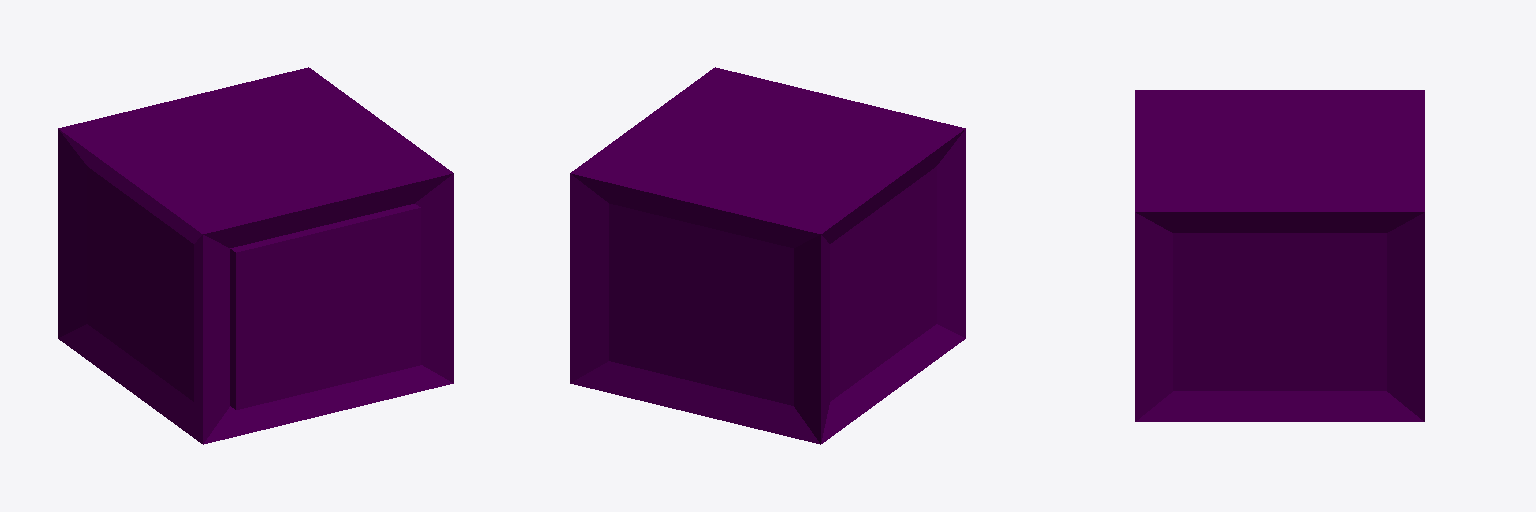
Rendered from AltitudeSensor.obj.
3 renders of one model, left to right at view 1: azimuth 30°, elevation 25°; view 2: azimuth 150°, elevation 25°; view 3: azimuth 270°, elevation 25°, orthographic.
Visible parts, largest first — view 1: Handle1; view 2: Handle1; view 3: Handle1.
Boxes of the visible parts, x1,y1,x2,y2 form: Handle1: [58, 67, 453, 444]; Handle1: [570, 67, 965, 444]; Handle1: [1135, 90, 1424, 421].
Size of the model in its own units: 0.6 by 0.48 by 0.6.